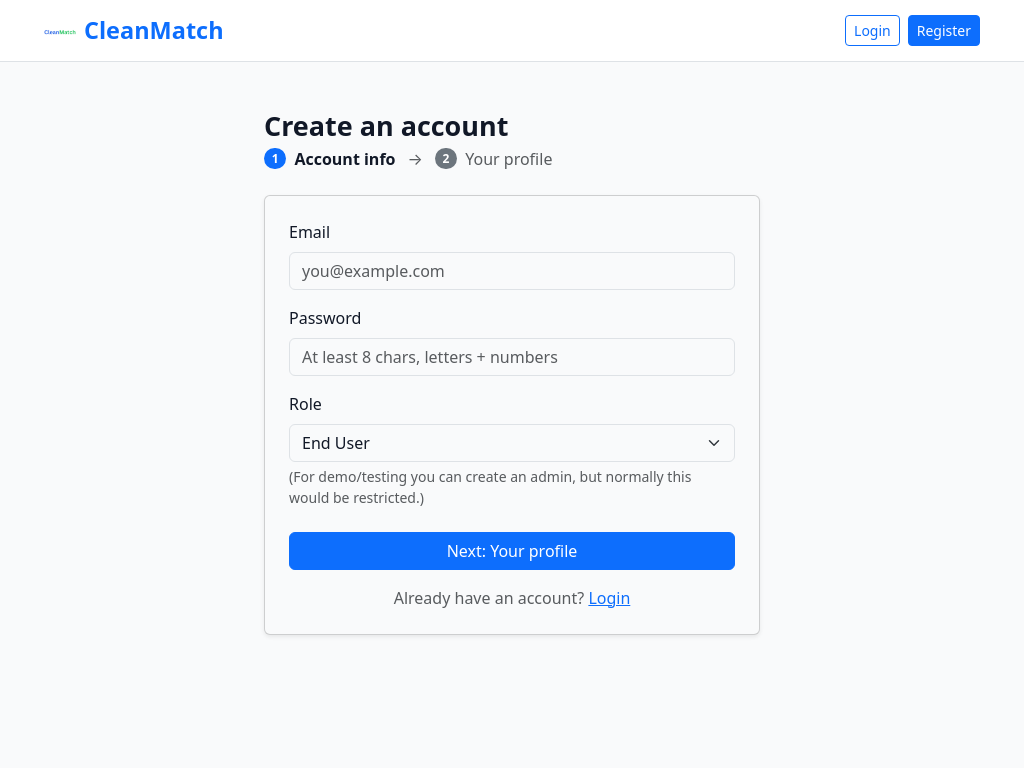
RegisterPage › advances to step 2 with valid email and password
The width and height of the screenshot is (1024, 768).
Type "user@test.com" into the field.
click(512, 270); type("user@test.com")  # box [289,252,735,290]
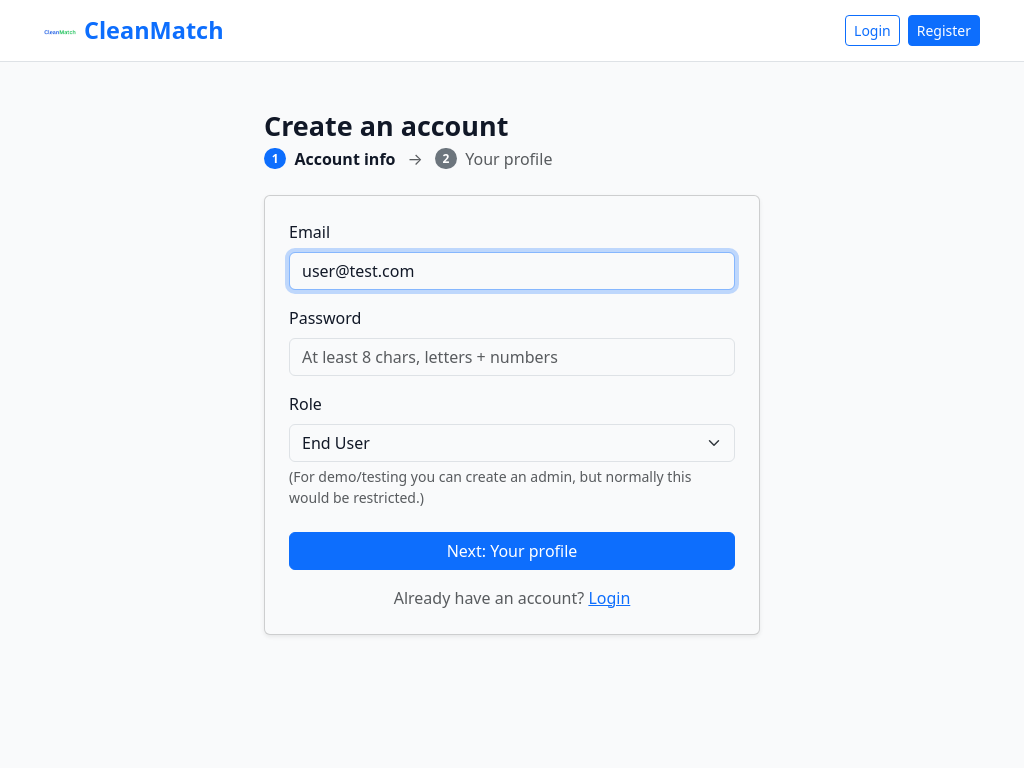
Type "Password1" into the password field with placeholder "At least 8 chars, letters + numbers".
click(512, 356); type("Password1")  # box [289,338,735,376]
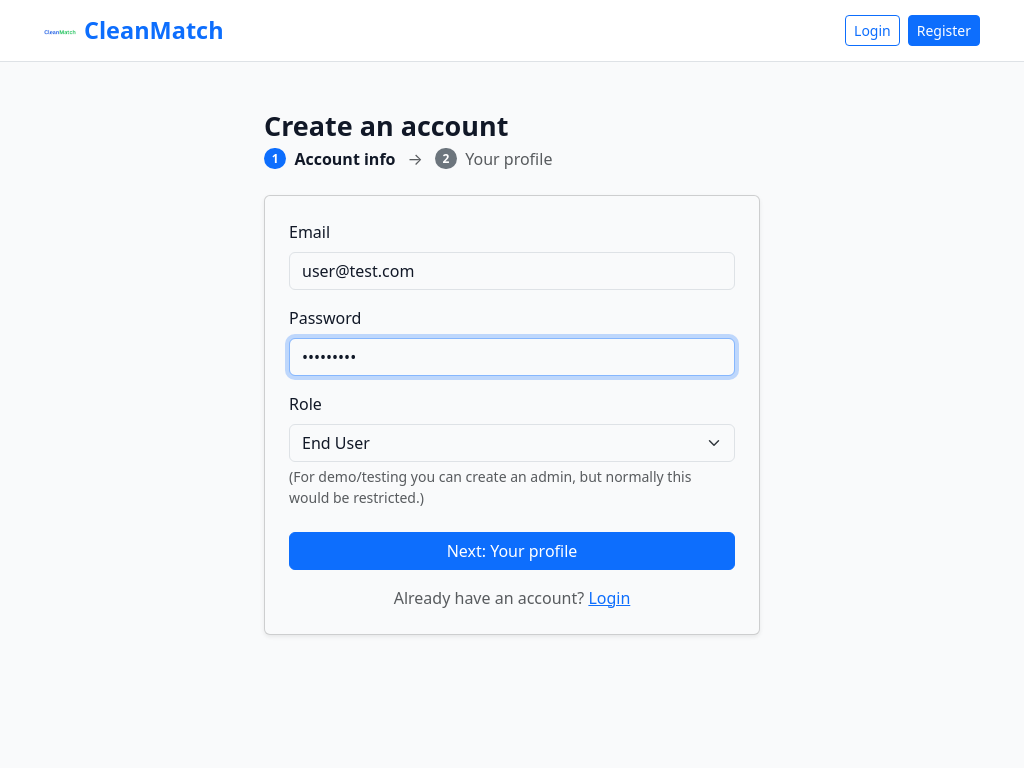
Click the button "Next: Your profile".
click(512, 550)  # box [289,532,735,570]
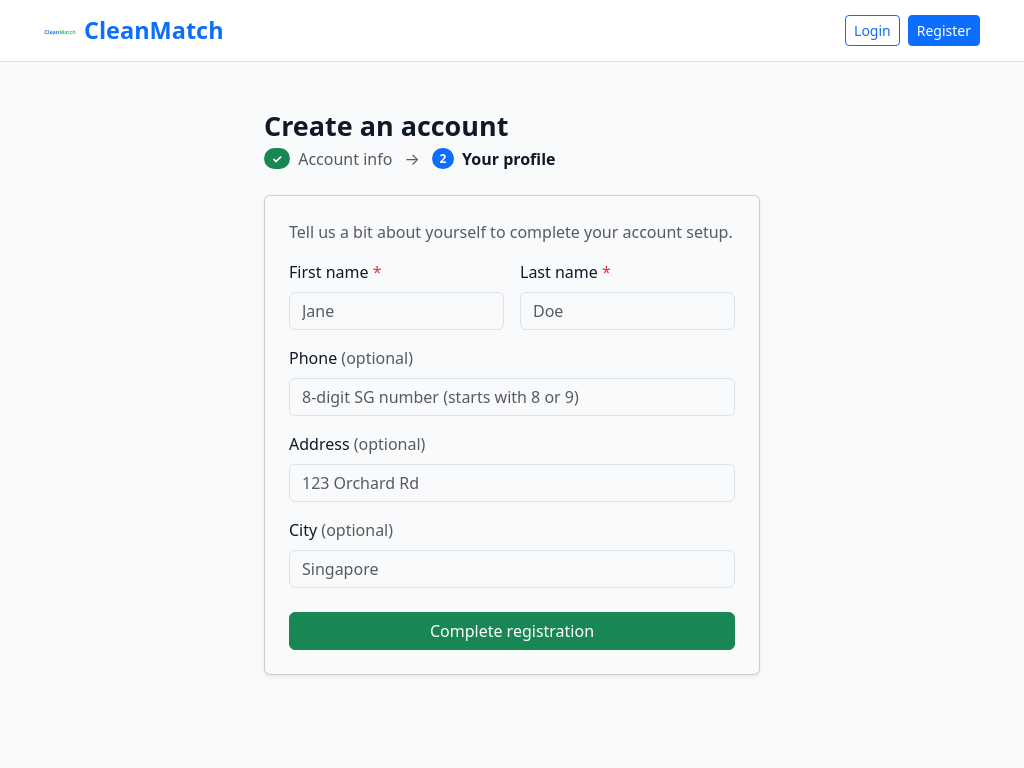
Expected: the text "Tell us a bit about yourself to complete your account setup." is shown, [289,220,735,244]
